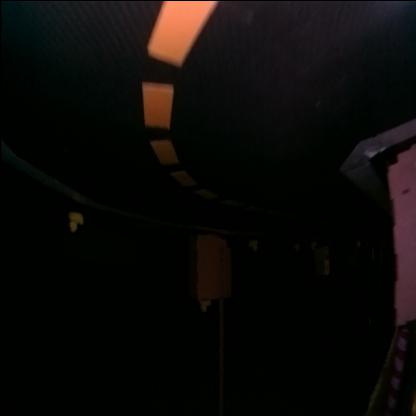Duckie: (68, 213, 83, 232), (200, 301, 210, 311), (250, 240, 258, 250), (294, 244, 300, 252), (310, 242, 316, 250)
